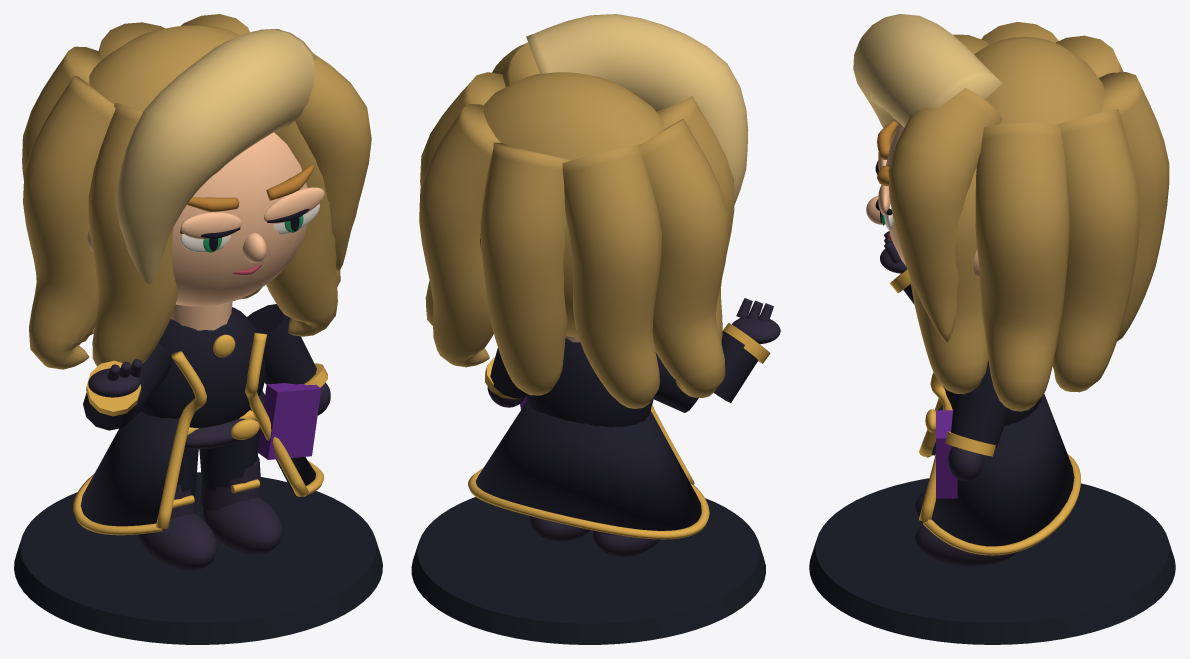
Rendered from CiantiaChibi3D.glb.
3 views of the same model, side by side, from view 1: azimuth 30°, elevation 25°; view 2: azimuth 150°, elevation 25°; view 3: azimuth 270°, elevation 25° (orthographic). The views are drawn at different scales.
Parts seen in each view (by area): view 1: BaseMiniatura, FranjaPrincipal, MechaEsculpida6, MechaEsculpida7, RostoEsculpido, FranjaLateral, CasacoComEspessura, Torso, MechaEsculpida, MassaCabelo, Grimorio, Bota2 (+22 smaller); view 2: BaseMiniatura, MechaEsculpida5, CasacoComEspessura, MechaEsculpida4, MechaEsculpida6, FranjaPrincipal, MechaEsculpida3, MassaCabelo, Torso, MechaEsculpida7, BainhaDourada, MechaEsculpida2 (+8 smaller); view 3: BaseMiniatura, MechaEsculpida2, MechaEsculpida3, FranjaLateral, CasacoComEspessura, FranjaPrincipal, MassaCabelo, MechaEsculpida4, MechaEsculpida, BraçoDireito, BainhaDourada, Bota2 (+6 smaller).
Boxes of the visible parts, x1,y1,x2,y2 form: BaseMiniatura: (14,472,382,644); FranjaPrincipal: (116,29,315,283); MechaEsculpida6: (23,75,115,369); MechaEsculpida7: (88,102,177,366); RostoEsculpido: (171,132,307,306); FranjaLateral: (295,53,371,271); CasacoComEspessura: (80,391,315,526); Torso: (140,307,266,428); MechaEsculpida: (266,121,337,336); MassaCabelo: (89,25,240,111); Grimorio: (257,383,321,459); Bota2: (202,498,282,555); BaseMiniatura: (411,497,765,644); MechaEsculpida5: (562,144,661,408); CasacoComEspessura: (475,401,701,530); MechaEsculpida4: (480,142,571,395); MechaEsculpida6: (639,119,728,397); FranjaPrincipal: (526,14,748,205); MechaEsculpida3: (419,104,500,367); MassaCabelo: (480,72,664,337); Torso: (525,338,653,427); MechaEsculpida7: (656,96,734,343); BainhaDourada: (468,468,709,539); MechaEsculpida2: (420,72,505,325); BaseMiniatura: (809,478,1175,644); MechaEsculpida2: (975,122,1069,411); MechaEsculpida3: (1052,109,1140,392); FranjaLateral: (888,87,1002,342); CasacoComEspessura: (931,393,1074,546); FranjaPrincipal: (853,14,1002,142); MassaCabelo: (974,36,1104,124); MechaEsculpida4: (1099,72,1169,341); MechaEsculpida: (910,167,988,394); BraçoDireito: (951,366,1009,448); BainhaDourada: (923,454,1080,555); Bota2: (915,524,1017,567).
Bounding box in the file's own units: 1.23 × 2 × 1.23.
